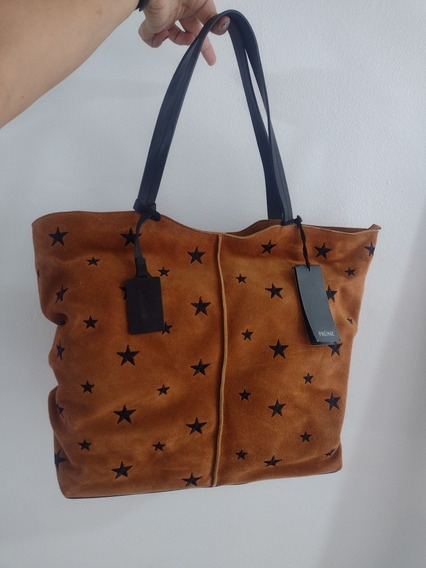cartera: (33, 11, 381, 499)
